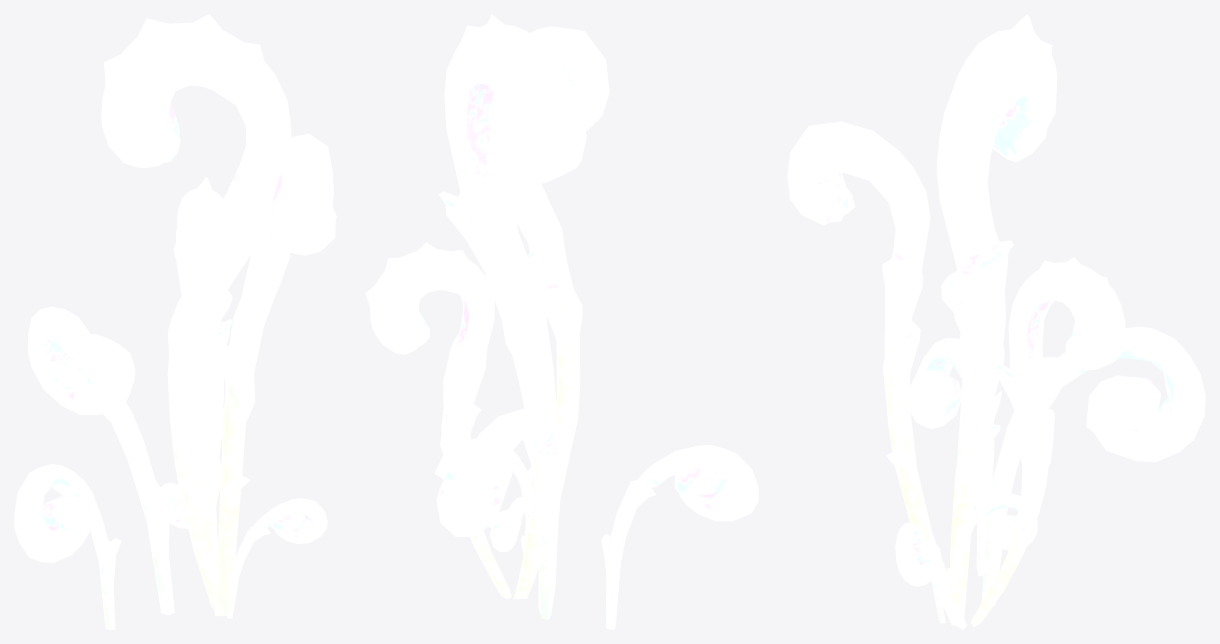
3 renders of one model, left to right at view 1: azimuth 30°, elevation 25°; view 2: azimuth 150°, elevation 25°; view 3: azimuth 270°, elevation 25°, orthographic. The views are drawn at different scales.
Parts seen in each view (by area): view 1: SM_GF_Cobra_Lily_01_LOD0; view 2: SM_GF_Cobra_Lily_01_LOD0; view 3: SM_GF_Cobra_Lily_01_LOD0.
Boxes of the visible parts, x1,y1,x2,y2 form: SM_GF_Cobra_Lily_01_LOD0: [14, 14, 336, 629]; SM_GF_Cobra_Lily_01_LOD0: [365, 14, 758, 629]; SM_GF_Cobra_Lily_01_LOD0: [787, 14, 1205, 629].
Bounding box in the file's own units: 0.4227 × 0.7938 × 0.5063.
Materials: 1 (1 with a texture image).
